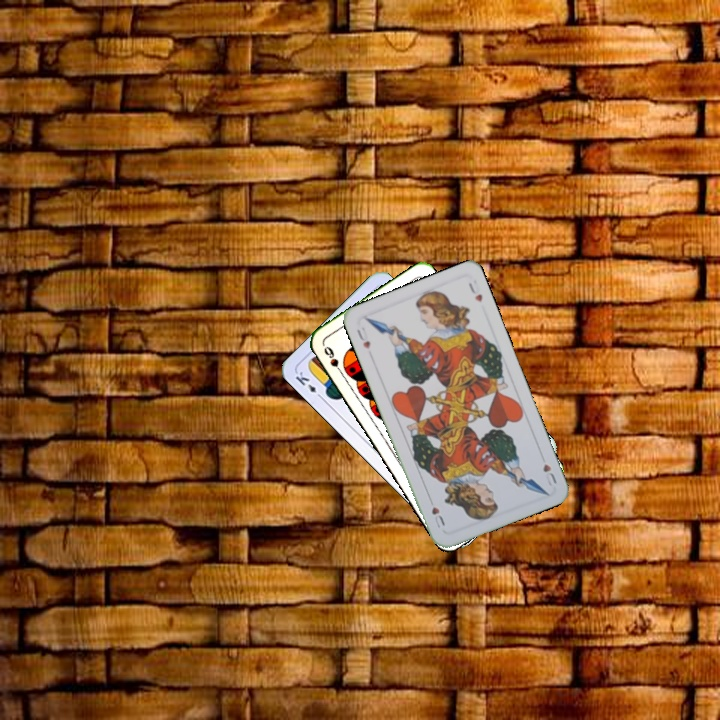EK: (291, 367, 326, 402)
HU: (353, 323, 373, 352), (539, 460, 559, 489)
S9: (320, 342, 346, 378)
